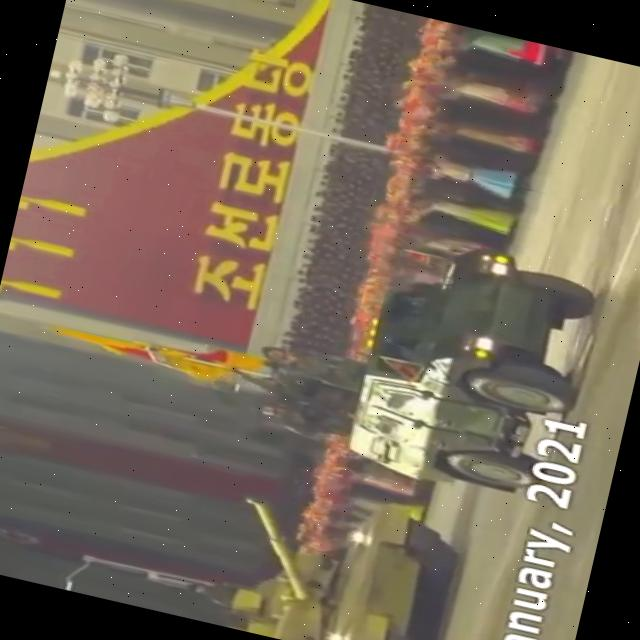north tank: (188, 460, 495, 640)
